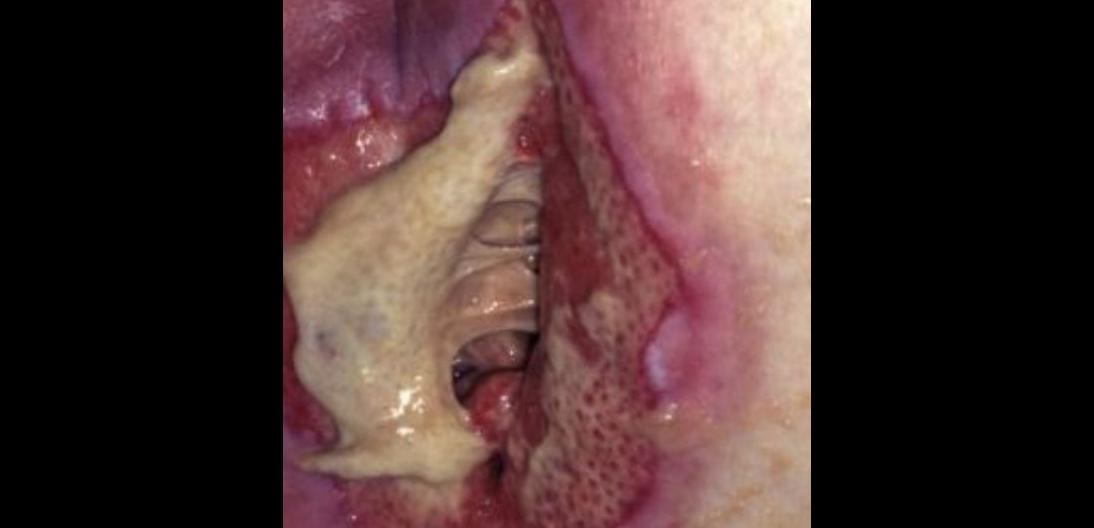Stage4: (283, 0, 765, 528)
